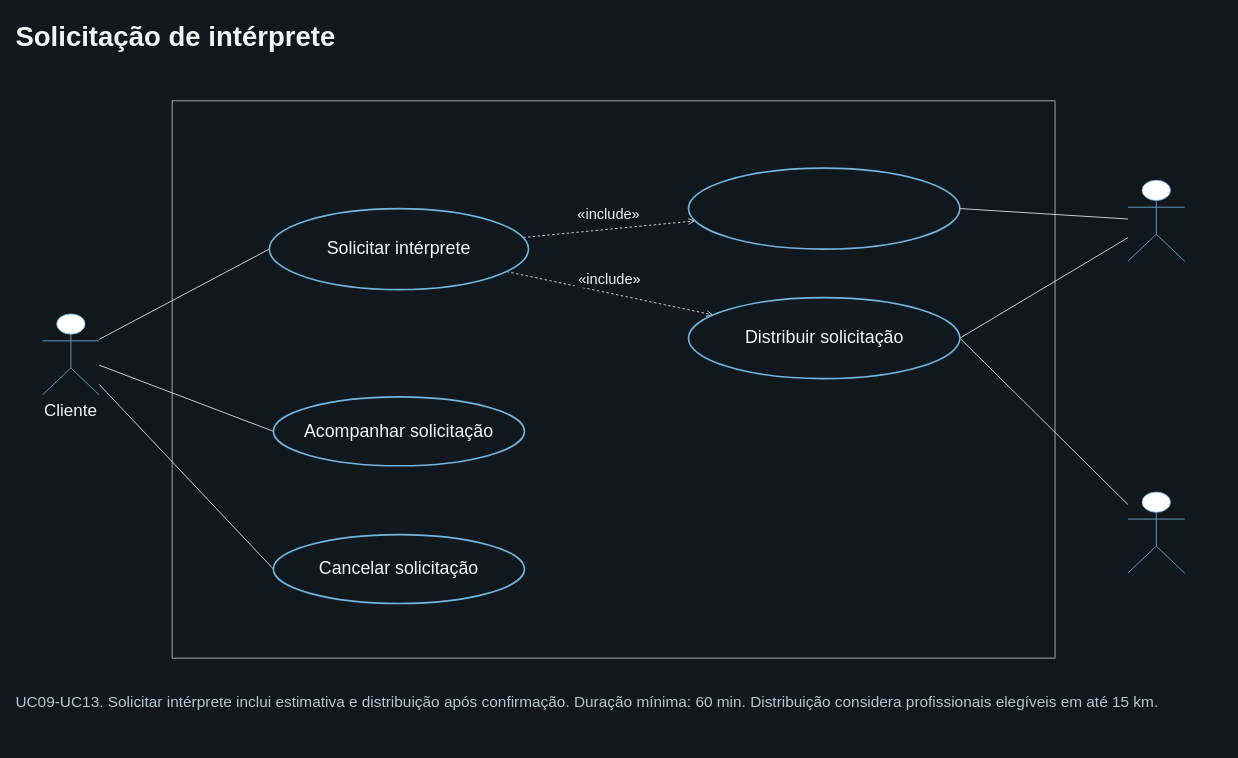
This 1238x758 diagram has some shape labels left out. Each missing label, with the box of its shape:
Calcular estimativa: (687, 167, 960, 249)
Intérprete: (1127, 491, 1185, 573)
Serviço de mapas: (1127, 179, 1185, 261)
Sistema Víamos: (171, 100, 1055, 658)
